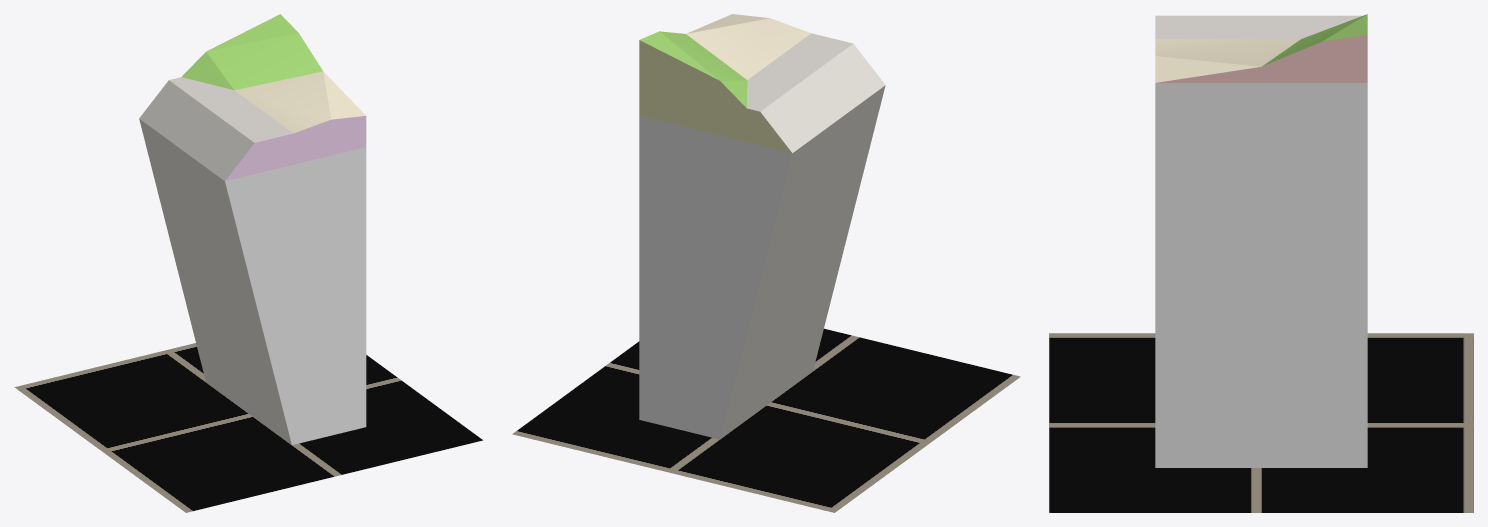
Rendered from Path_End_Edge_Top_1x1.glb.
The picture shows the model from 3 angles, left to right: view 1: azimuth 30°, elevation 25°; view 2: azimuth 150°, elevation 25°; view 3: azimuth 270°, elevation 25°; orthographic projection. The views are drawn at different scales.
Visible parts, largest first — view 1: Path_End_Edge_Top_1x1, Floor; view 2: Path_End_Edge_Top_1x1, Floor; view 3: Path_End_Edge_Top_1x1, Floor.
Boxes of the visible parts, x1,y1,x2,y2 form: Path_End_Edge_Top_1x1: (139, 14, 366, 444); Floor: (14, 343, 483, 512); Path_End_Edge_Top_1x1: (639, 14, 885, 439); Floor: (512, 328, 1020, 512); Path_End_Edge_Top_1x1: (1155, 14, 1367, 467); Floor: (1049, 333, 1473, 512).
Size of the model in its own units: 200 by 225 by 200.
8 materials, 1 textured.
